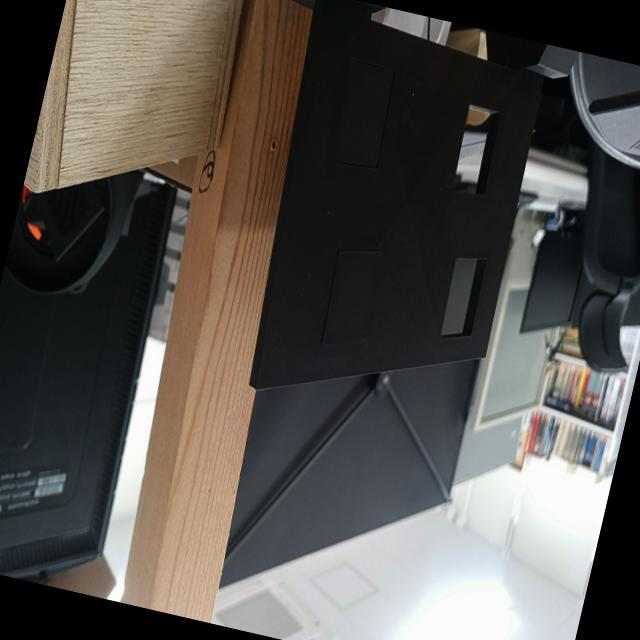Obstacle: (451, 107, 500, 193), (439, 259, 485, 337)
Wall: (256, 5, 545, 391)
